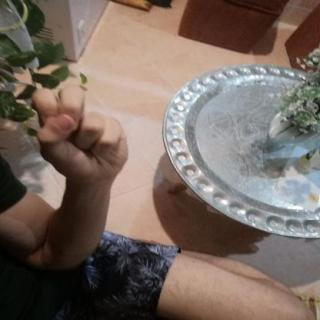QAAF: (17, 77, 143, 188)
